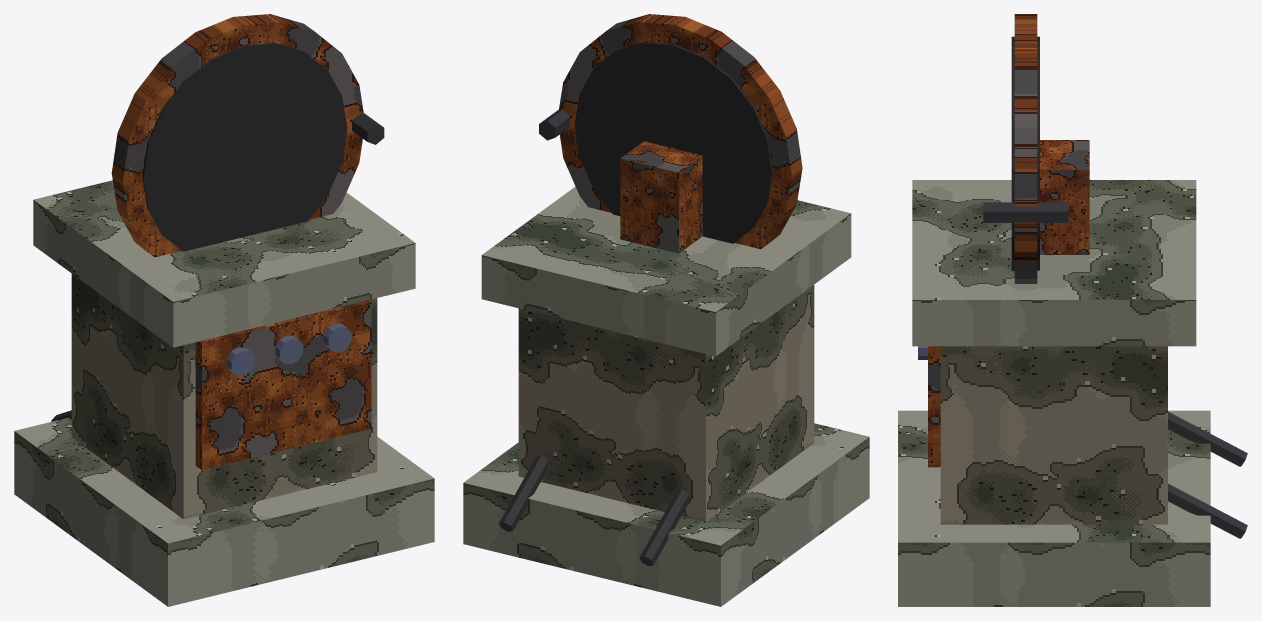
File: ANC_ControlWheel.glb
3 renders of one model, left to right at view 1: azimuth 30°, elevation 25°; view 2: azimuth 150°, elevation 25°; view 3: azimuth 270°, elevation 25°, orthographic. The views are drawn at different scales.
Visible parts, largest first — view 1: Base, Top, Hole, Column, Face, Rim, Handle, Rune2, Rune3, Rune1; view 2: Column, Top, Base, Hole, Rim, Hub, Cable.001, Cable, Handle; view 3: Column, Top, Base, Rim, Hub, Handle, Face, Hole, Cable, Cable.001.
Boxes of the visible parts, x1,y1,x2,y2 form: Base: (14, 417, 434, 606); Top: (33, 180, 415, 347); Hole: (142, 43, 347, 251); Column: (71, 274, 377, 519); Face: (195, 300, 371, 469); Rim: (111, 14, 363, 257); Handle: (352, 113, 384, 144); Rune2: (275, 335, 303, 364); Rune3: (323, 323, 351, 352); Rune1: (226, 347, 254, 375); Column: (518, 285, 814, 521); Top: (481, 186, 851, 356); Base: (463, 423, 869, 606); Hole: (575, 42, 772, 243); Rim: (558, 14, 802, 249); Hub: (620, 141, 702, 253); Cable.001: (499, 454, 548, 531); Cable: (639, 489, 688, 565); Handle: (539, 109, 570, 140); Column: (940, 346, 1167, 524); Top: (912, 180, 1196, 346); Base: (898, 410, 1210, 606); Rim: (1014, 14, 1037, 283); Hub: (1040, 140, 1089, 254); Handle: (983, 202, 1068, 222); Face: (928, 346, 940, 467); Hole: (1011, 36, 1039, 270); Cable: (1168, 411, 1247, 466); Cable.001: (1168, 483, 1247, 538).
Size of the model in its own units: 1.1 by 2 by 1.23.
Materials: 8 (3 with a texture image).
